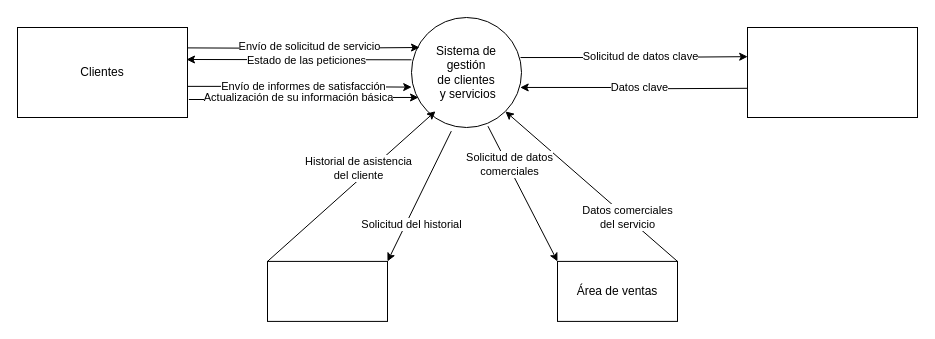
Image size: 935x339. Some labels were removed from this diagram. The centre of each missing label's shape, as x and y in pixels:
"Departamento de soporte técnico" goes at (327,290).
"Proveedores externos" goes at (832,72).
